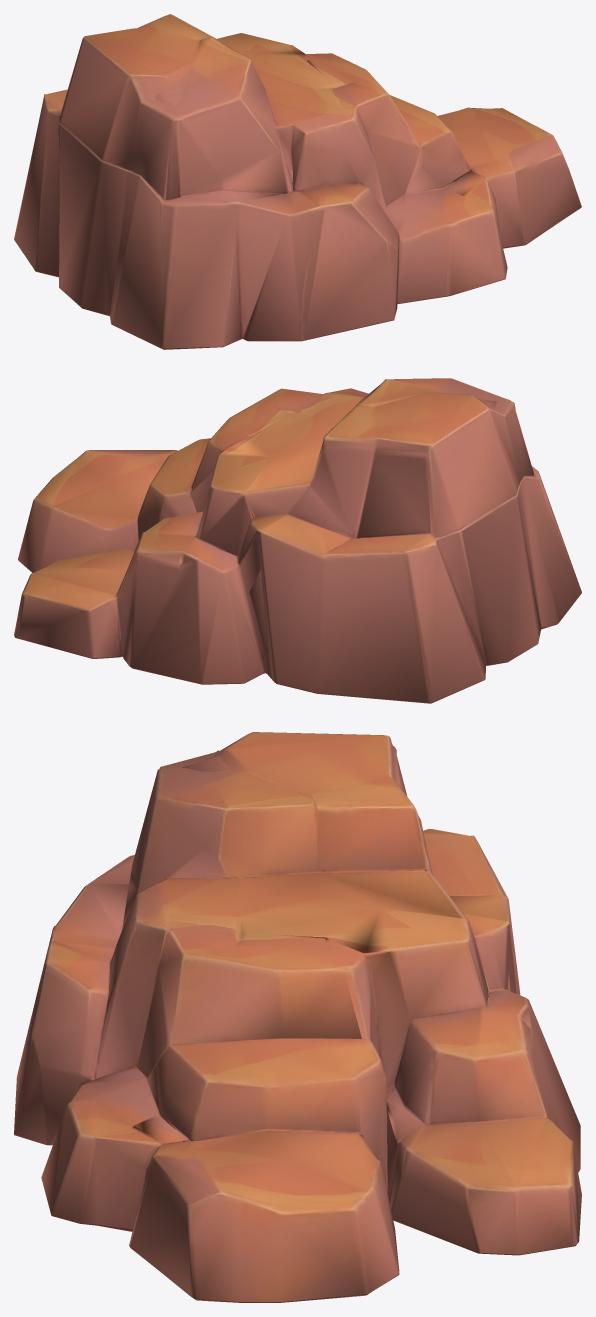
The model's file is cliff-module-b.glb.
3 renders of one model, top to bottom at view 1: azimuth 30°, elevation 25°; view 2: azimuth 150°, elevation 25°; view 3: azimuth 270°, elevation 25°, orthographic. The views are drawn at different scales.
Parts seen in each view (by area): view 1: tripo_node_02704657-3e2e-4480-8c8a-3d47d9c7a212; view 2: tripo_node_02704657-3e2e-4480-8c8a-3d47d9c7a212; view 3: tripo_node_02704657-3e2e-4480-8c8a-3d47d9c7a212.
Boxes of the visible parts, <box> form: tripo_node_02704657-3e2e-4480-8c8a-3d47d9c7a212: <box>14,14,581,349</box>; tripo_node_02704657-3e2e-4480-8c8a-3d47d9c7a212: <box>14,378,581,703</box>; tripo_node_02704657-3e2e-4480-8c8a-3d47d9c7a212: <box>14,732,581,1302</box>.
Size of the model in its own units: 3 by 1.32 by 2.32.
Materials: 1 (1 with a texture image).
